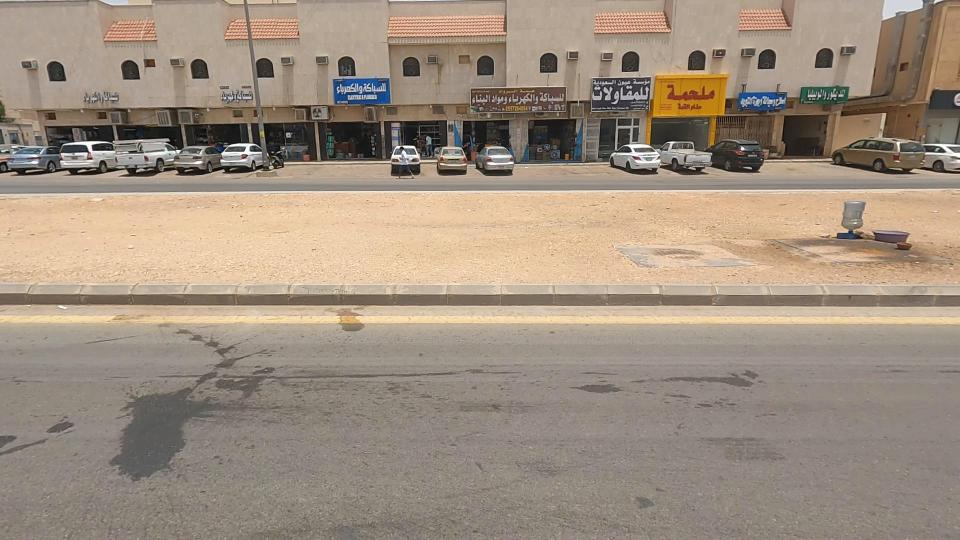GARBAGE: (794, 161, 913, 271), (837, 199, 954, 276)
